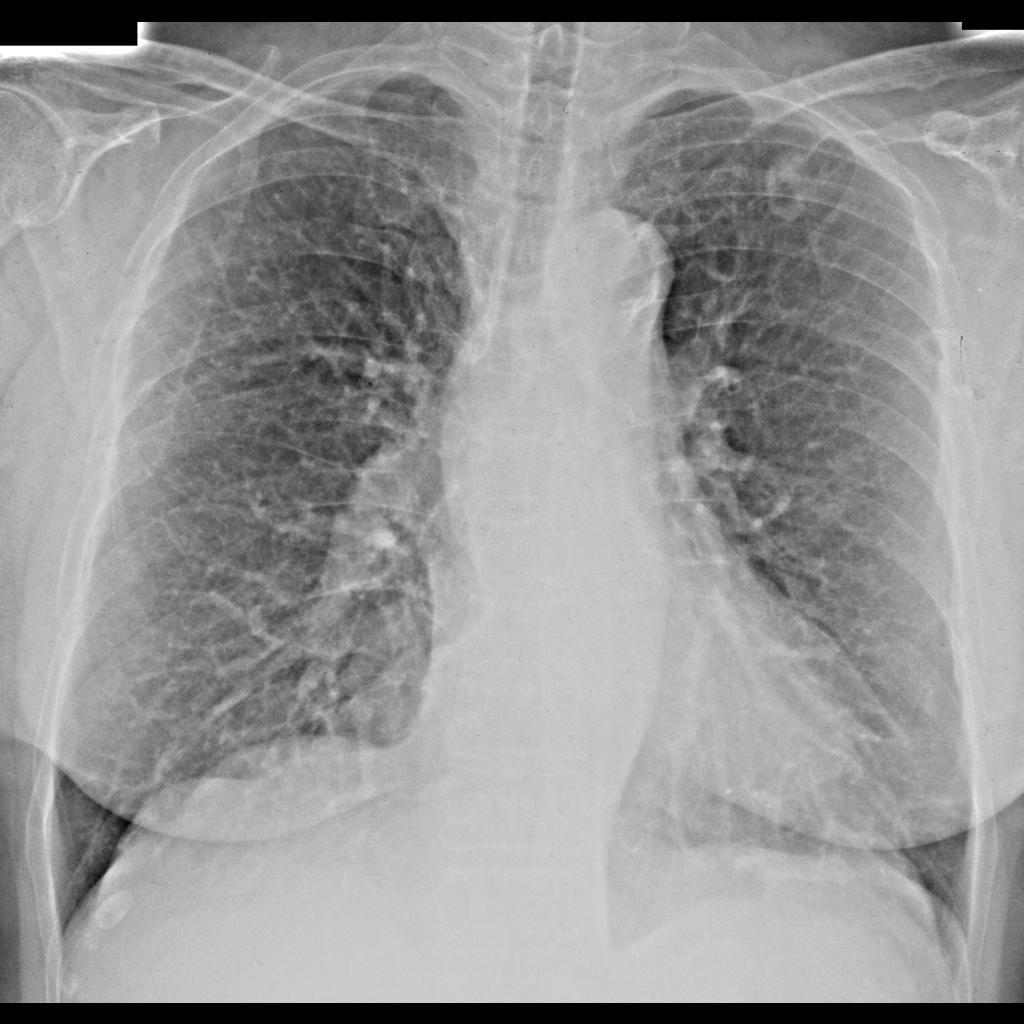Nodule: (754, 151, 824, 221)
